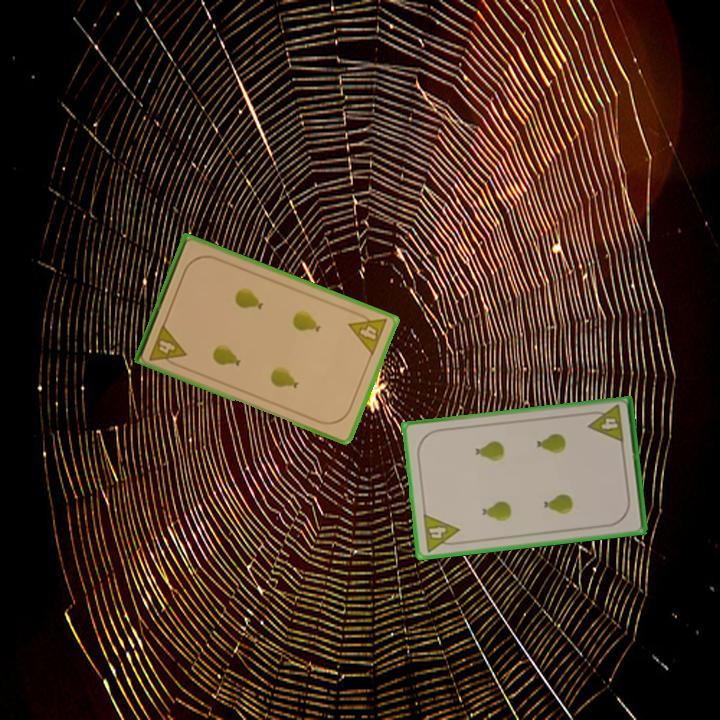4p: (345, 307, 390, 358), (145, 320, 189, 370), (419, 510, 463, 555), (584, 401, 627, 446)
